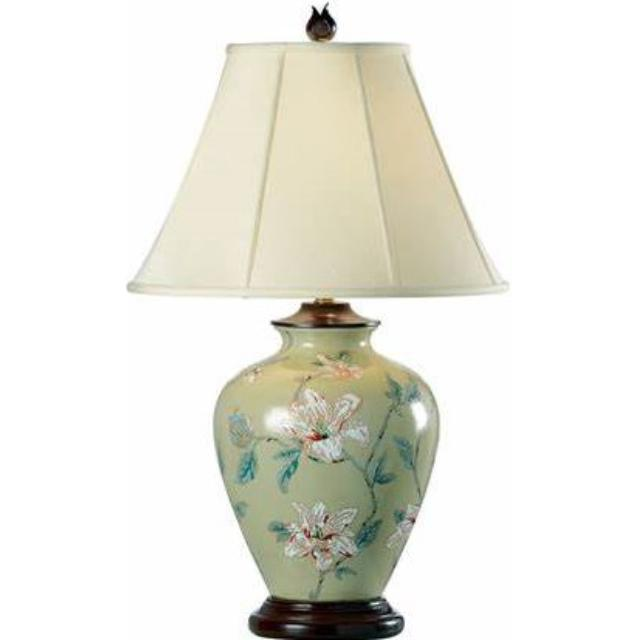lamp: (127, 9, 509, 640)
